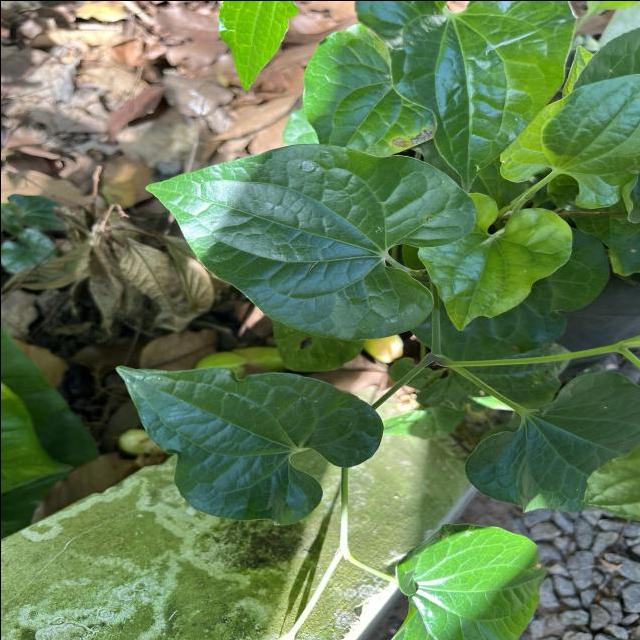Piper longum: (142, 140, 478, 342), (111, 362, 385, 528), (414, 189, 574, 332)
